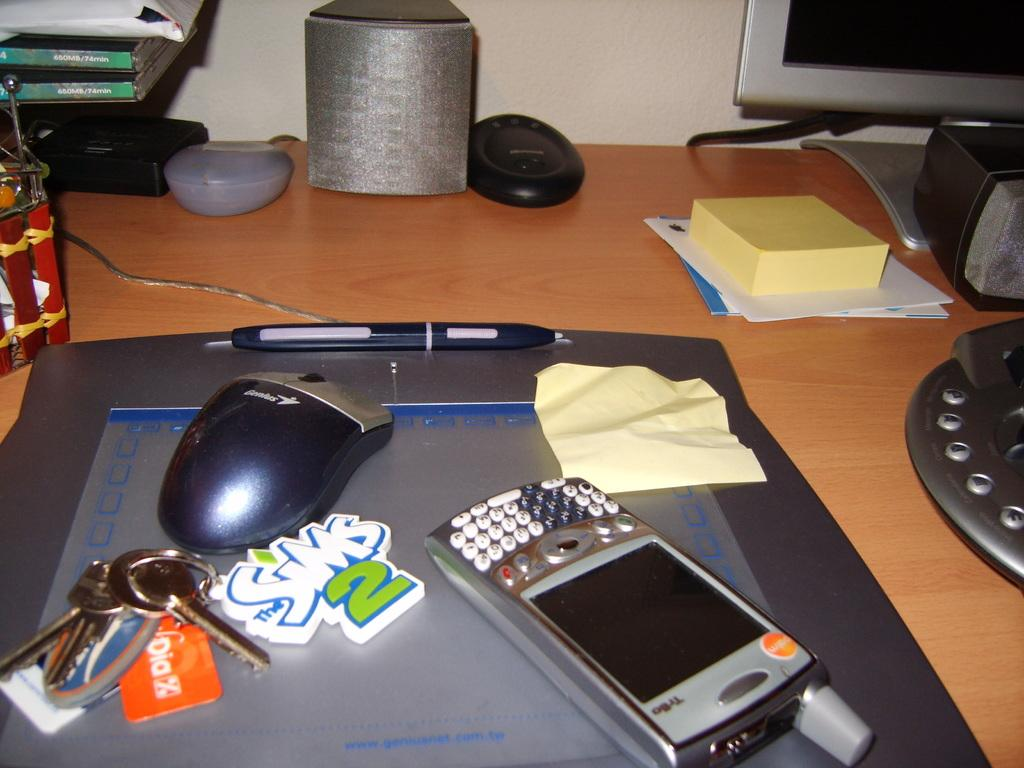Computer-mouse: (159, 365, 397, 554)
